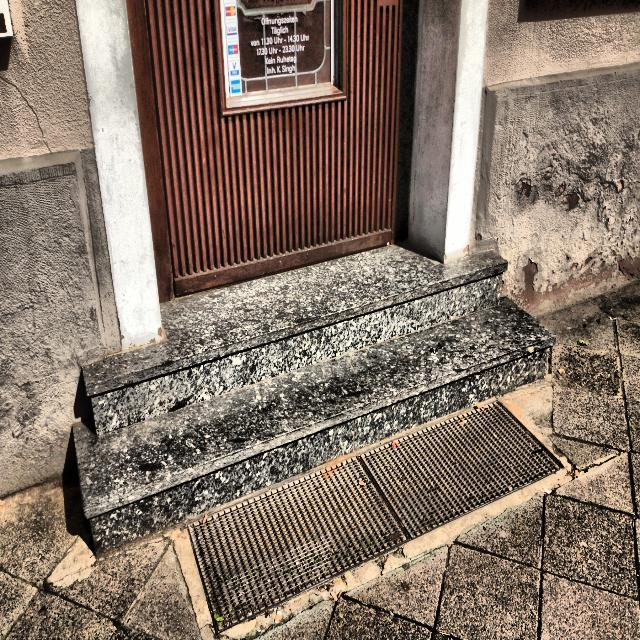escada: (69, 255, 549, 558)
